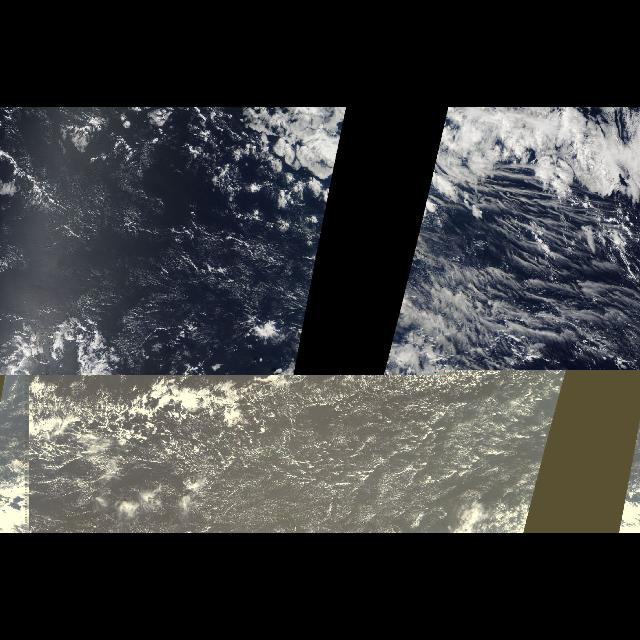Sugar: (282, 391, 528, 534), (100, 203, 238, 361)
